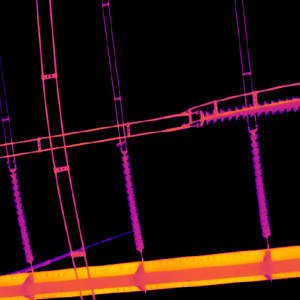insulator: (200, 96, 300, 125), (247, 125, 271, 236), (120, 149, 145, 253), (7, 163, 33, 263)
